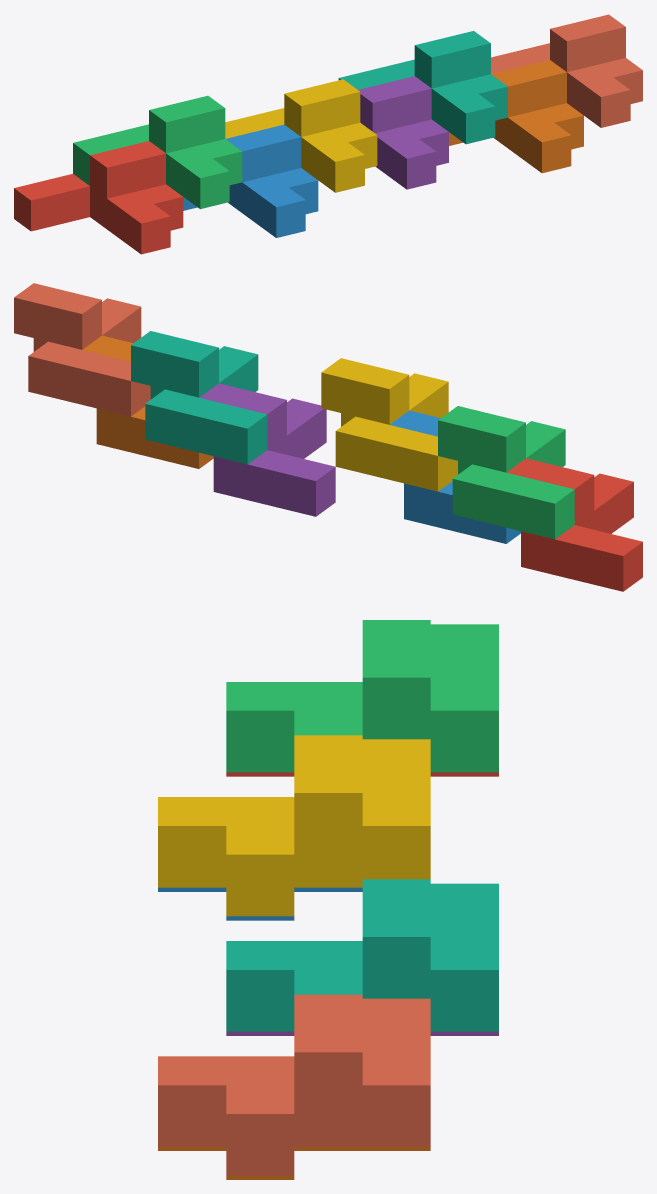
File: tiling.obj
The picture shows the model from 3 angles, top to bottom: view 1: azimuth 30°, elevation 25°; view 2: azimuth 150°, elevation 25°; view 3: azimuth 270°, elevation 25°; orthographic projection. The views are drawn at different scales.
Parts seen in each view (by area): view 1: copy_1_domain_1, copy_1_domain_3, copy_1_domain_7, copy_1_domain_4, copy_1_domain_8, copy_1_domain_2, copy_1_domain_6, copy_1_domain_5; view 2: copy_1_domain_7, copy_1_domain_3, copy_1_domain_8, copy_1_domain_4, copy_1_domain_5, copy_1_domain_1, copy_1_domain_6, copy_1_domain_2; view 3: copy_1_domain_8, copy_1_domain_4, copy_1_domain_7, copy_1_domain_3, copy_1_domain_6, copy_1_domain_2.
Boxes of the visible parts, left/top/right/bottom form: copy_1_domain_1: left=14, top=141, right=183, bottom=254; copy_1_domain_3: left=73, top=95, right=242, bottom=209; copy_1_domain_7: left=338, top=31, right=507, bottom=144; copy_1_domain_4: left=225, top=79, right=377, bottom=192; copy_1_domain_8: left=491, top=14, right=642, bottom=127; copy_1_domain_2: left=183, top=124, right=318, bottom=237; copy_1_domain_6: left=449, top=60, right=583, bottom=173; copy_1_domain_5: left=358, top=76, right=448, bottom=189; copy_1_domain_7: left=131, top=331, right=267, bottom=464; copy_1_domain_3: left=438, top=406, right=574, bottom=539; copy_1_domain_8: left=14, top=283, right=150, bottom=416; copy_1_domain_4: left=321, top=358, right=457, bottom=491; copy_1_domain_5: left=199, top=383, right=335, bottom=516; copy_1_domain_1: left=507, top=458, right=642, bottom=591; copy_1_domain_6: left=82, top=335, right=213, bottom=468; copy_1_domain_2: left=390, top=410, right=520, bottom=543; copy_1_domain_8: left=158, top=994, right=430, bottom=1175; copy_1_domain_4: left=158, top=735, right=430, bottom=916; copy_1_domain_7: left=226, top=879, right=498, bottom=1031; copy_1_domain_3: left=226, top=620, right=498, bottom=772; copy_1_domain_6: left=158, top=1147, right=430, bottom=1179; copy_1_domain_2: left=158, top=887, right=362, bottom=920.
Size of the model in its own units: 19 by 3 by 5.
